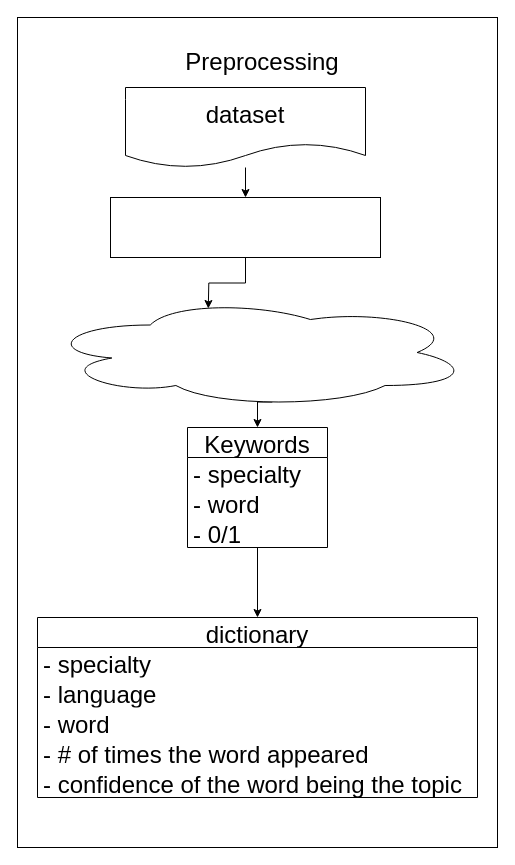
The diagram is 515 pixels wide and 865 high, and some of its shapes have lost their labels. Here are the shapes that lost their labels. From the top down, the centre of each, then its label:
At pixel 245 227: "keywords after Lemmanet / YAKE!".
At pixel 256 352: "we checked every keyword and tagged 0/1".
